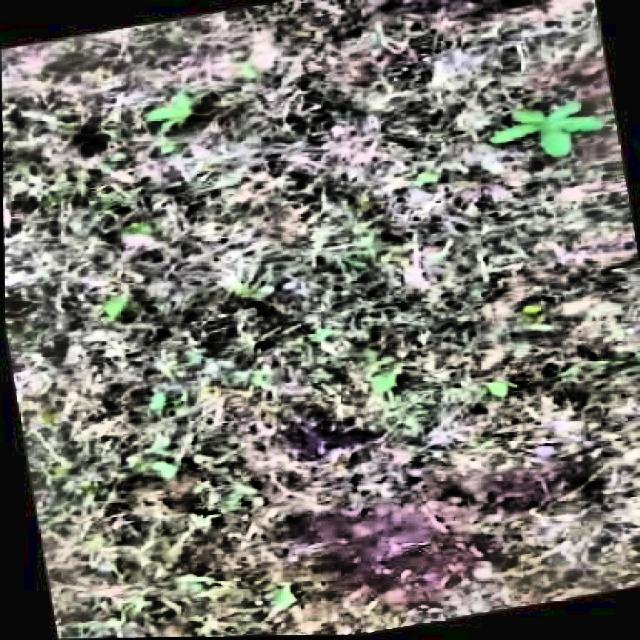Weeds: (478, 90, 605, 168)
